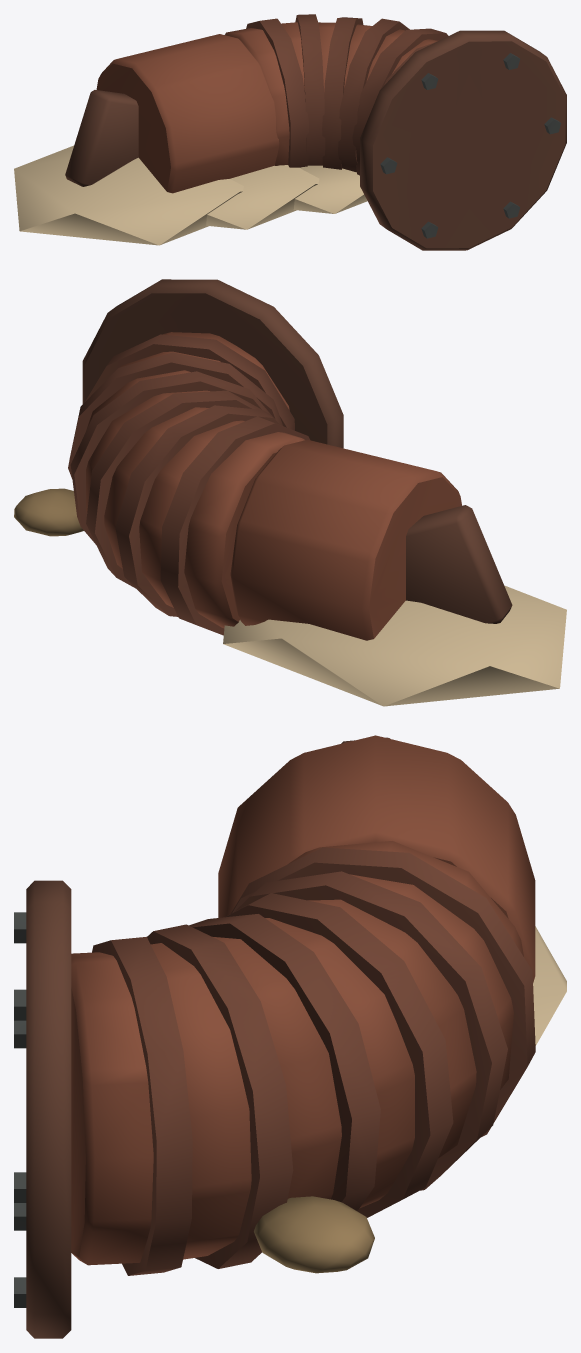
File: pump_elbow_c.glb
3 renders of one model, top to bottom at view 1: azimuth 30°, elevation 25°; view 2: azimuth 150°, elevation 25°; view 3: azimuth 270°, elevation 25°, orthographic. The views are drawn at different scales.
Parts seen in each view (by area): view 1: Surface; view 2: Surface; view 3: Surface.
Part boxes in pixels (left/top/right/bottom): Surface: left=14, top=14, right=566, bottom=250; Surface: left=14, top=279, right=566, bottom=706; Surface: left=14, top=735, right=566, bottom=1338.
Bounding box in the file's own units: 5.02 × 2.24 × 2.71.
